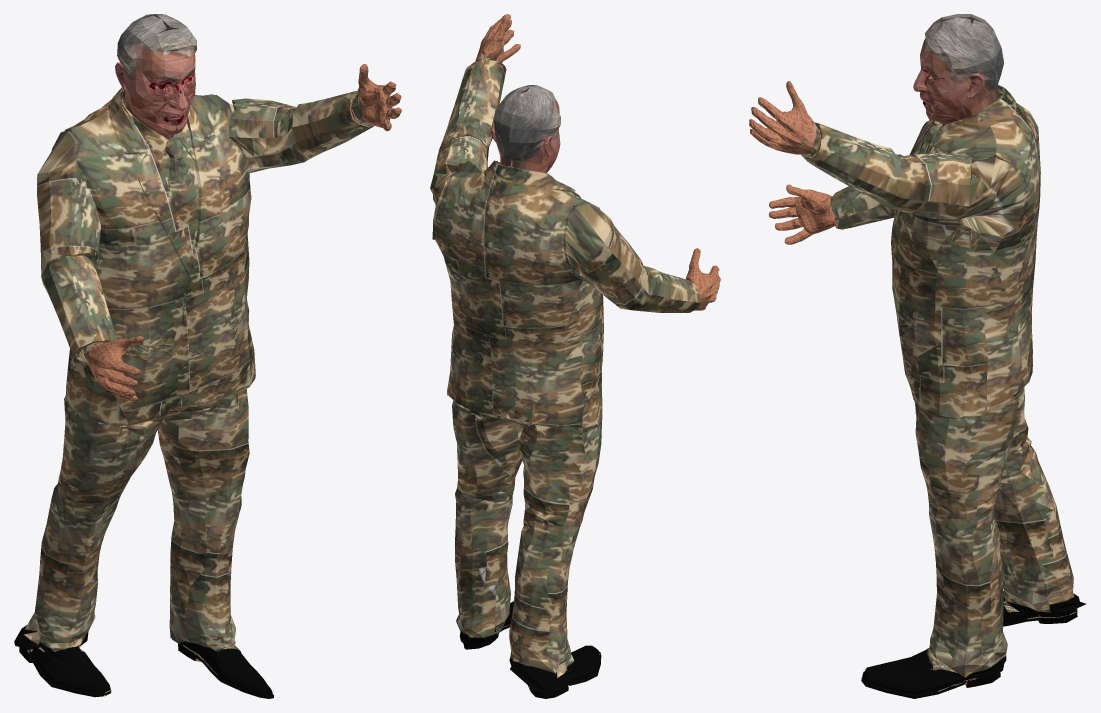
Rendered from zombie_000050.obj.
3 views of the same model, side by side, from view 1: azimuth 30°, elevation 25°; view 2: azimuth 150°, elevation 25°; view 3: azimuth 270°, elevation 25° (orthographic). The views are drawn at different scales.
Visible parts, largest first — view 1: Suit_coat_orig_9___De, objGeo_Hea_orig_9___D; view 2: Suit_coat_orig_9___De, objGeo_Hea_orig_9___D; view 3: Suit_coat_orig_9___De, objGeo_Hea_orig_9___D.
Part boxes in pixels (x1,y1,x2,y2): Suit_coat_orig_9___De: (14,64,401,698); objGeo_Hea_orig_9___D: (115,14,196,139); Suit_coat_orig_9___De: (430,14,720,698); objGeo_Hea_orig_9___D: (491,85,560,172); Suit_coat_orig_9___De: (749,81,1085,698); objGeo_Hea_orig_9___D: (913,14,1003,125).
Bounding box in the file's own units: 0.8671 × 1.9 × 0.8992.
